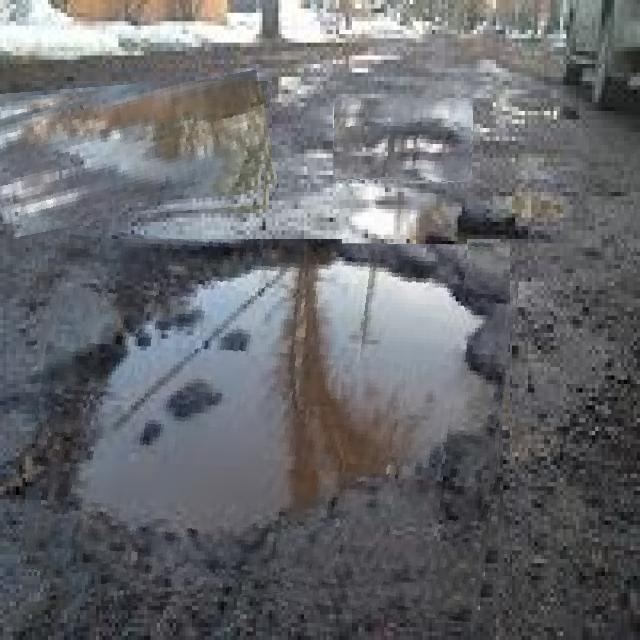Pothole: (26, 239, 510, 611), (0, 81, 273, 225), (334, 98, 473, 181), (342, 186, 467, 244)
